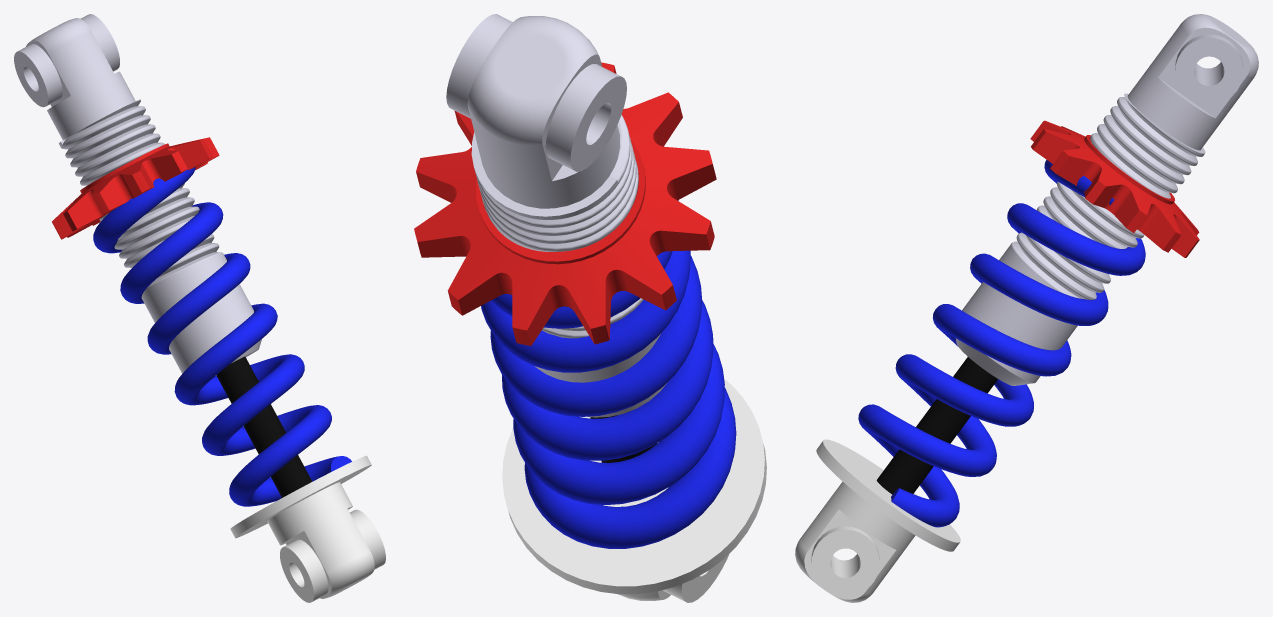
The model's file is SUSPENSION.glb.
3 renders of one model, left to right at view 1: azimuth 30°, elevation 25°; view 2: azimuth 150°, elevation 25°; view 3: azimuth 270°, elevation 25°, orthographic. The views are drawn at different scales.
Parts seen in each view (by area): view 1: ROD, SPRING, BASE, NUT; view 2: SPRING, ROD, NUT, BASE; view 3: ROD, SPRING, BASE, NUT.
Part boxes in pixels (left/top/right/bottom): ROD: left=14, top=14, right=261, bottom=373; SPRING: left=93, top=167, right=351, bottom=506; BASE: left=216, top=357, right=385, bottom=602; NUT: left=52, top=137, right=219, bottom=239; SPRING: left=481, top=200, right=736, bottom=548; ROD: left=446, top=14, right=667, bottom=417; NUT: left=414, top=62, right=716, bottom=345; BASE: left=502, top=379, right=766, bottom=602; ROD: left=956, top=14, right=1258, bottom=385; SPRING: left=858, top=159, right=1145, bottom=527; BASE: left=795, top=357, right=997, bottom=602; NUT: left=1030, top=120, right=1199, bottom=257.
Size of the model in its own units: 0.0692 by 0.1532 by 0.1223.
